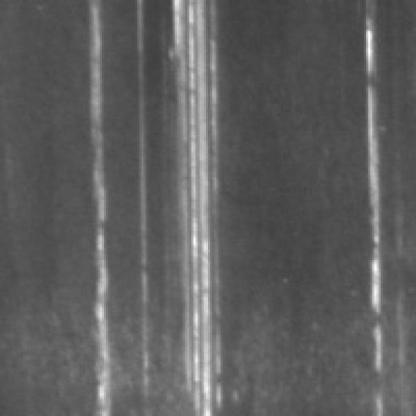scratches: (154, 0, 235, 408), (83, 0, 127, 406), (358, 19, 389, 378)
